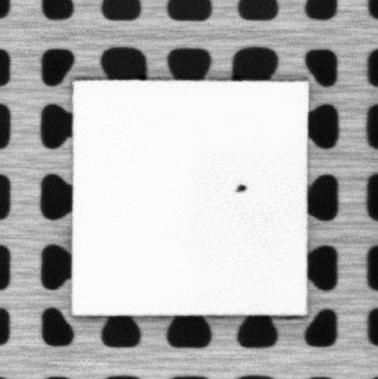DIE_INK: (233, 183, 249, 192)
